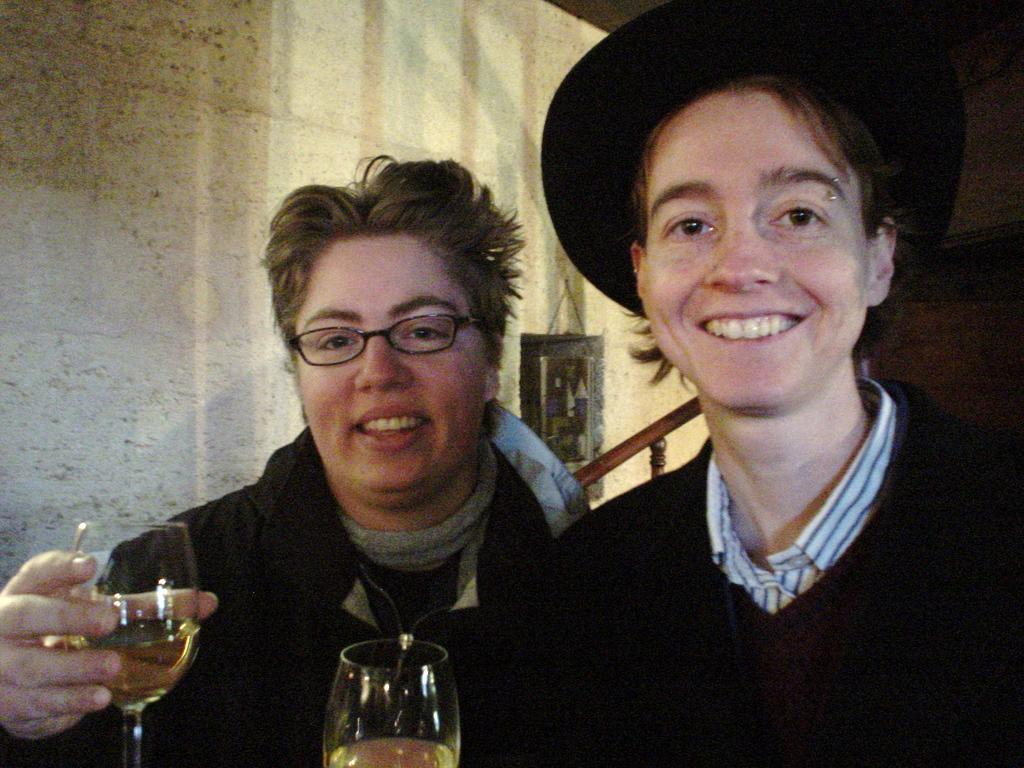Hat: (538, 0, 960, 348)
